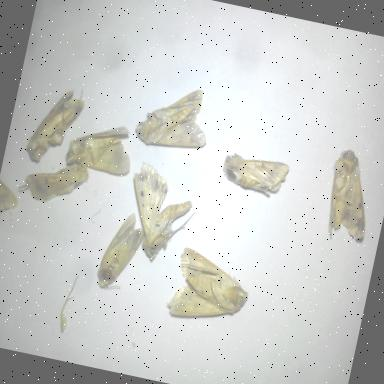abw: (114, 156, 206, 273), (164, 242, 257, 334), (130, 75, 219, 158), (316, 142, 384, 249), (20, 76, 90, 172), (92, 205, 154, 298), (12, 147, 93, 216), (61, 113, 140, 181), (216, 146, 292, 202)
